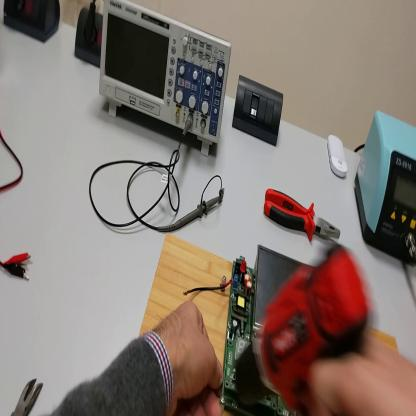electric screwdriver: (235, 236, 377, 416)
hand: (309, 329, 416, 415), (155, 301, 227, 413)
low voltage board: (219, 244, 329, 414)
oscilloscope: (103, 1, 233, 155)
oscilloscope probe tip: (171, 196, 222, 233)
pliers: (266, 188, 343, 246), (15, 380, 47, 413)
socket: (4, 2, 62, 47), (75, 10, 104, 66)
welder station: (355, 107, 416, 267)
working area: (138, 232, 399, 416)
